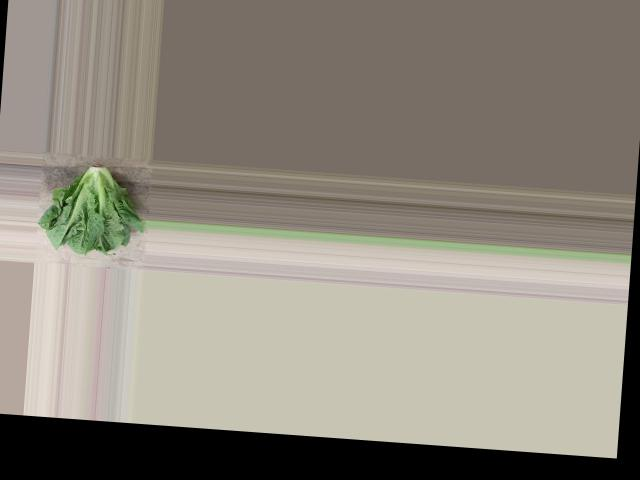lettuce: (39, 155, 149, 261)
